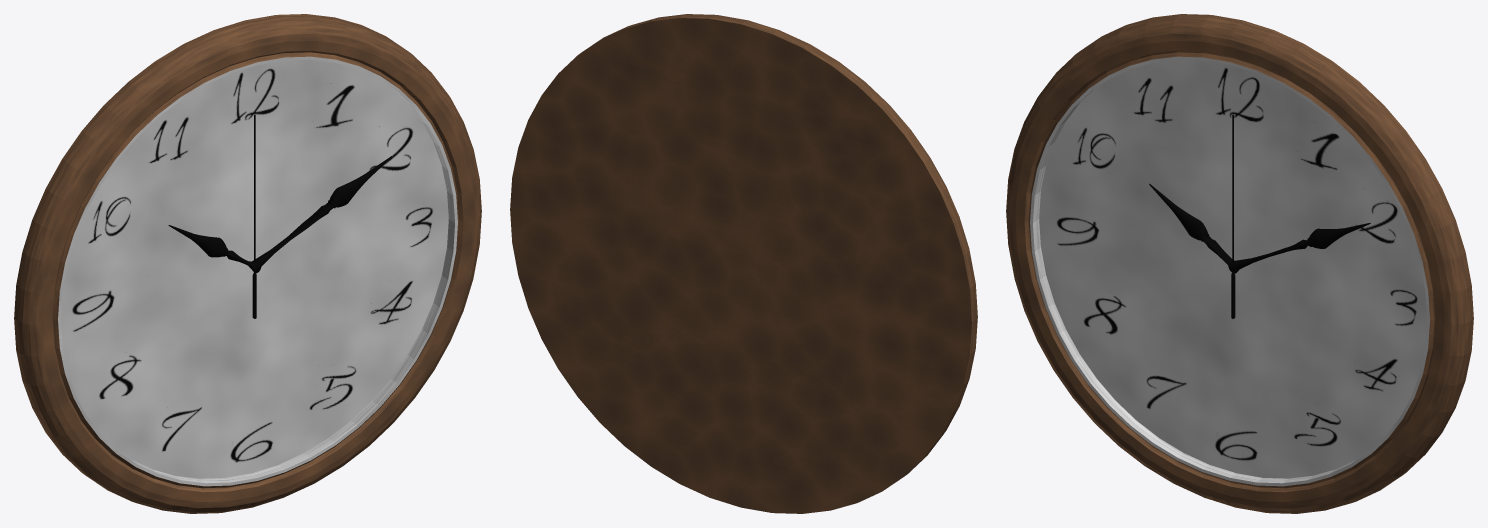
The model's file is clock.fbx.
The picture shows the model from 3 angles, left to right: view 1: azimuth 30°, elevation 25°; view 2: azimuth 150°, elevation 25°; view 3: azimuth 330°, elevation 25°; orthographic projection.
Visible parts, largest first — view 1: inner, border, min_clock_hands, hour_clock_hands, second_clock_hands; view 2: border; view 3: inner, border, min_clock_hands, hour_clock_hands, second_clock_hands.
Boxes of the visible parts, x1=… form: inner: x1=58, y1=56, x2=457, y2=486; border: x1=14, y1=14, x2=481, y2=513; min_clock_hands: x1=251, y1=156, x2=391, y2=272; hour_clock_hands: x1=168, y1=225, x2=261, y2=272; second_clock_hands: x1=252, y1=114, x2=256, y2=318; border: x1=510, y1=14, x2=977, y2=513; inner: x1=1030, y1=56, x2=1429, y2=486; border: x1=1006, y1=14, x2=1473, y2=513; min_clock_hands: x1=1228, y1=223, x2=1370, y2=272; hour_clock_hands: x1=1149, y1=183, x2=1238, y2=273; second_clock_hands: x1=1231, y1=114, x2=1235, y2=318.
Size of the model in its own units: 92.78 by 92.78 by 4.51.
Materials: 3 (3 with a texture image).
